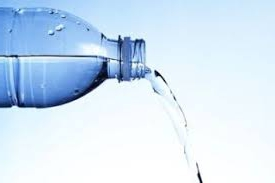plastic water bottle: (1, 7, 158, 110)
